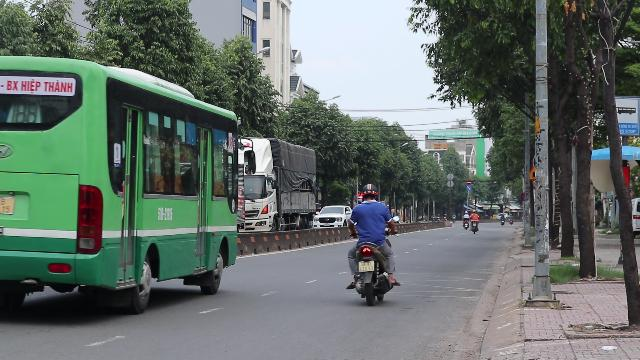helmet: (360, 183, 378, 201)
licenseplate: (358, 261, 374, 272)
motorcyclist: (344, 182, 400, 304)
